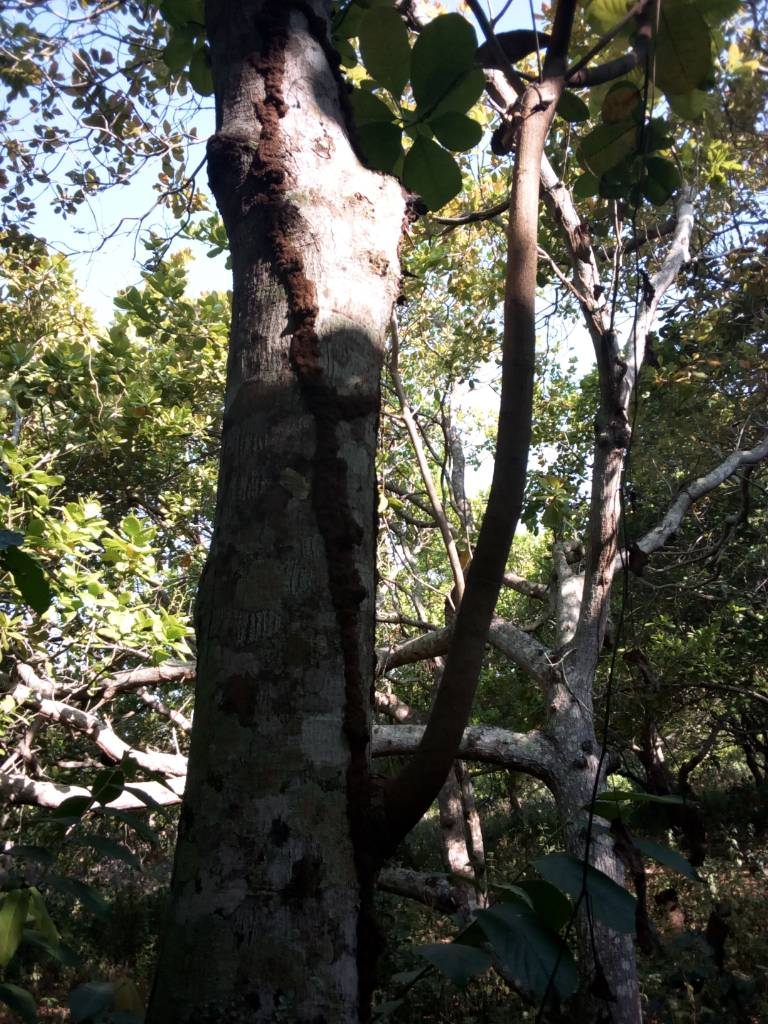Termites: (239, 69, 378, 750)
